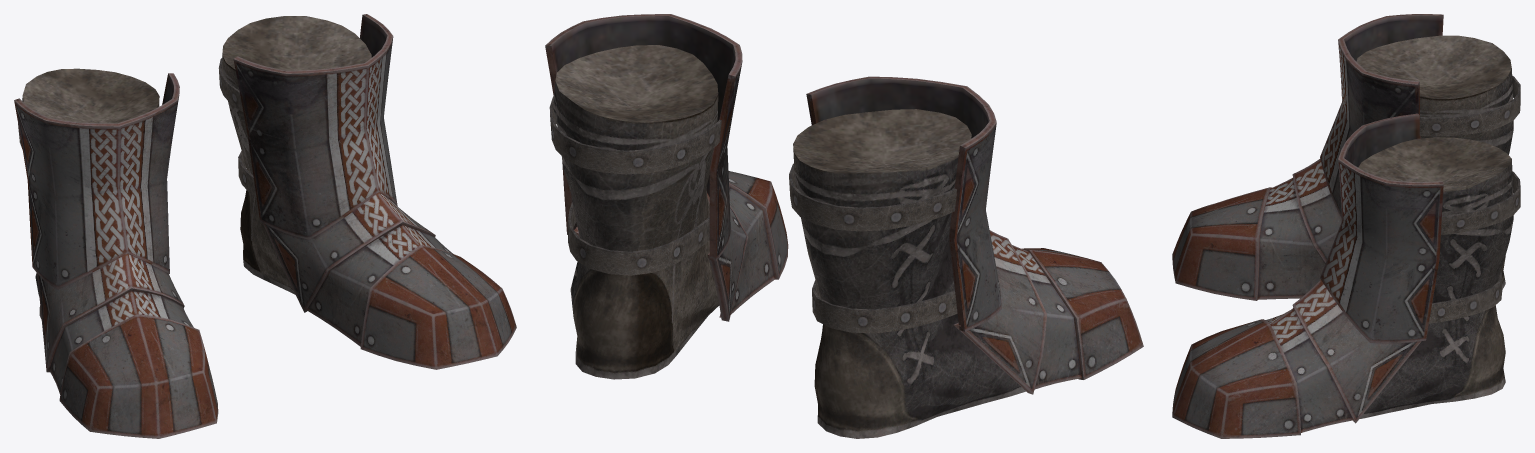
The model's file is sk_dwarf_iron_boots_elite_c1.fbx.
3 views of the same model, side by side, from view 1: azimuth 30°, elevation 25°; view 2: azimuth 150°, elevation 25°; view 3: azimuth 270°, elevation 25° (orthographic). The views are drawn at different scales.
Parts seen in each view (by area): view 1: sk_dwarf_iron_boots_elite_c1.0, sk_dwarf_iron_boots_elite_c1.1; view 2: sk_dwarf_iron_boots_elite_c1.0, sk_dwarf_iron_boots_elite_c1.1; view 3: sk_dwarf_iron_boots_elite_c1.0, sk_dwarf_iron_boots_elite_c1.1.
Part boxes in pixels (x1,y1,x2,y2): sk_dwarf_iron_boots_elite_c1.0: (14, 14, 516, 438); sk_dwarf_iron_boots_elite_c1.1: (18, 58, 256, 197); sk_dwarf_iron_boots_elite_c1.0: (545, 14, 1143, 438); sk_dwarf_iron_boots_elite_c1.1: (549, 95, 957, 333); sk_dwarf_iron_boots_elite_c1.0: (1172, 14, 1513, 438); sk_dwarf_iron_boots_elite_c1.1: (1419, 76, 1520, 323).
Size of the model in its own units: 0.5801 by 0.4158 by 0.3158.
2 materials, 2 textured.
